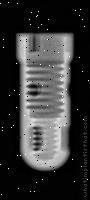Camlog: (12, 33, 74, 172)
